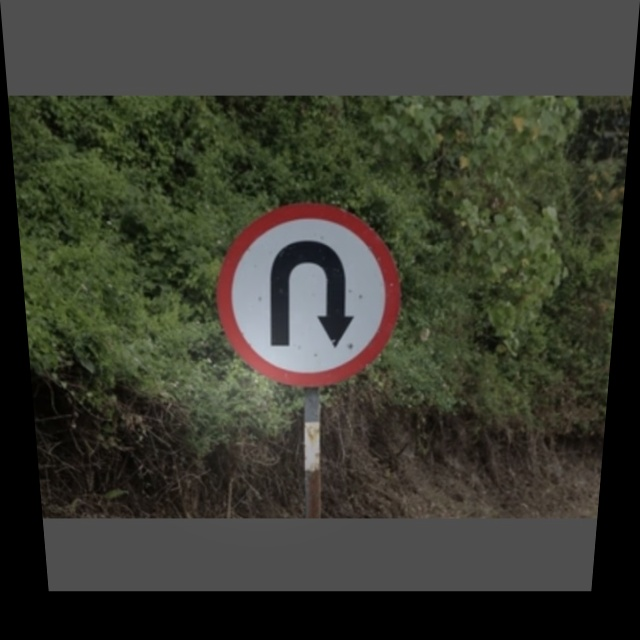U_Turn_Ahead: (214, 207, 408, 381)
